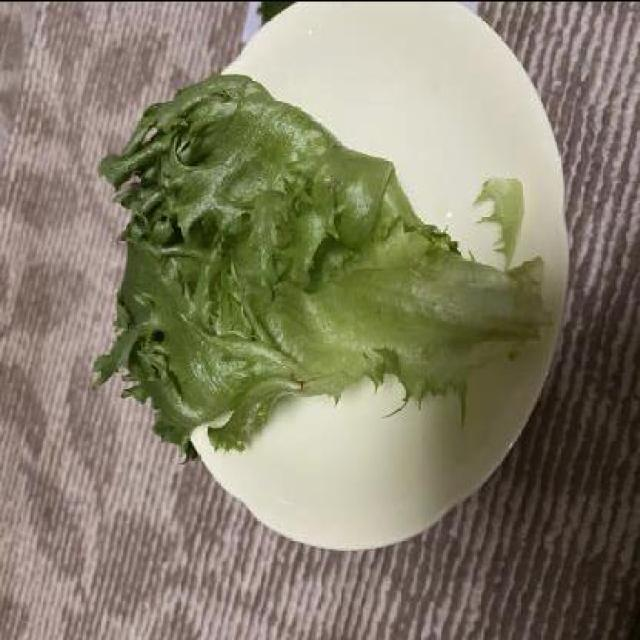Lettuce: (87, 61, 554, 462)
